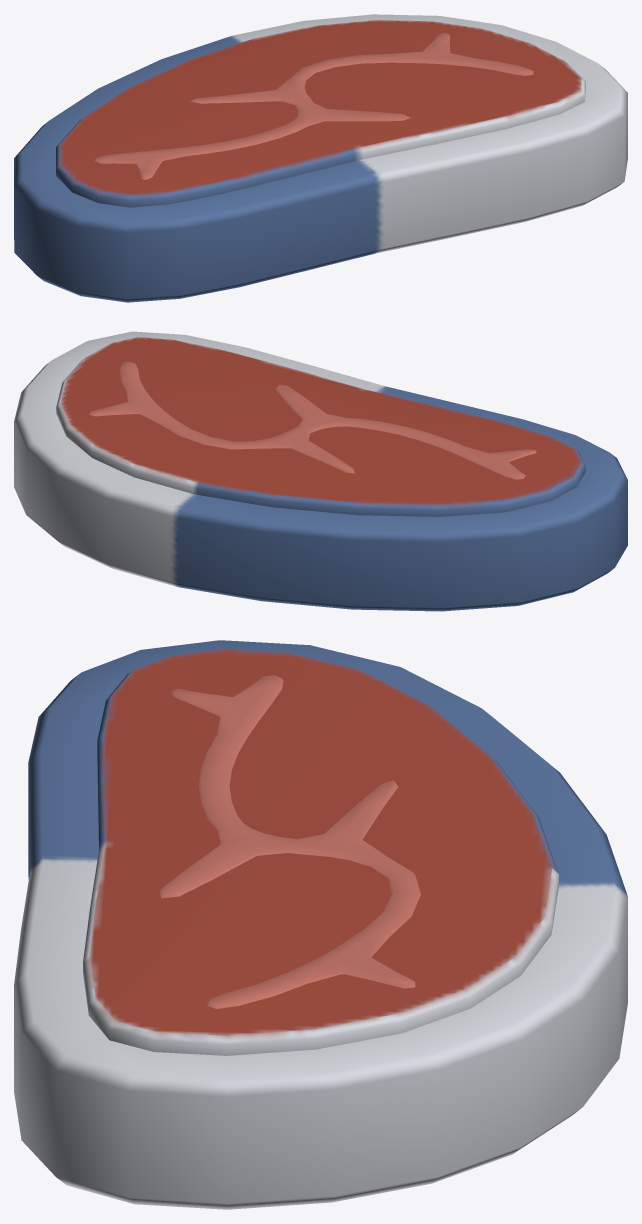
The model's file is Meat_3_Steak.fbx.
The picture shows the model from 3 angles, top to bottom: view 1: azimuth 30°, elevation 25°; view 2: azimuth 150°, elevation 25°; view 3: azimuth 270°, elevation 25°; orthographic projection. The views are drawn at different scales.
Parts seen in each view (by area): view 1: Meat_3_Steak; view 2: Meat_3_Steak; view 3: Meat_3_Steak.
Part boxes in pixels (left/top/right/bottom): Meat_3_Steak: left=14, top=14, right=627, bottom=302; Meat_3_Steak: left=14, top=331, right=627, bottom=611; Meat_3_Steak: left=14, top=640, right=627, bottom=1209.
Bounding box in the file's own units: 342 × 59.81 × 197.
